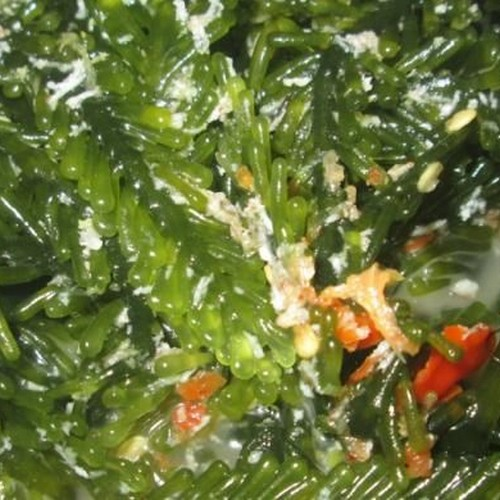bulung buni: (23, 27, 477, 479)
